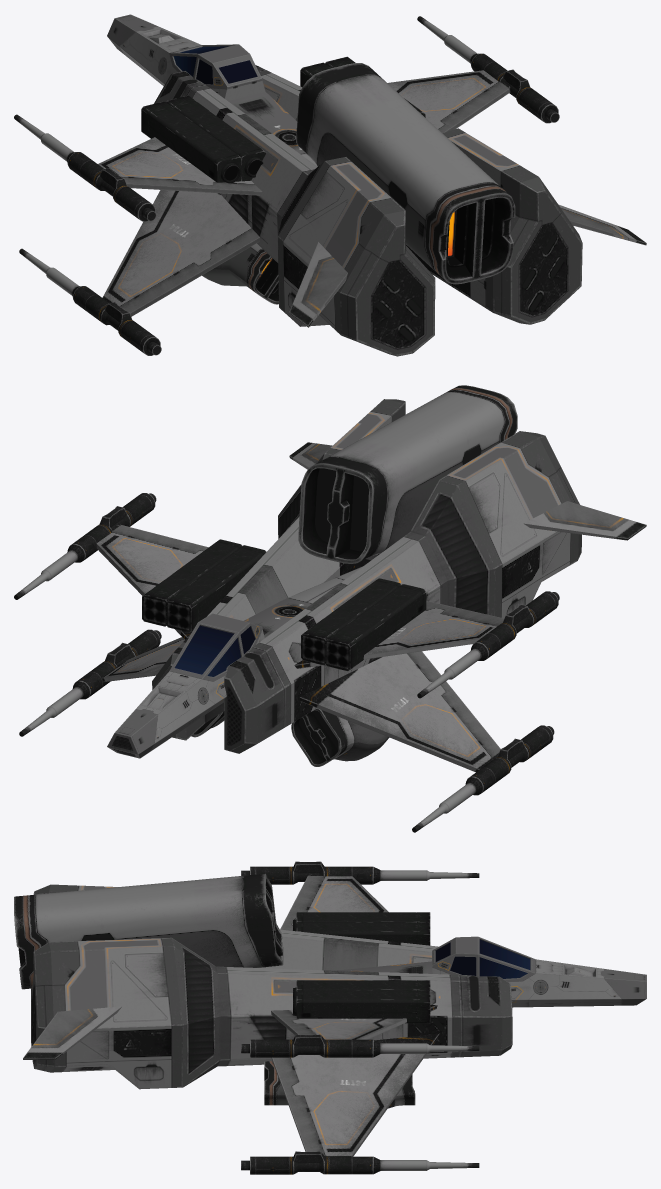
The model's file is battleship3.gltf.
The picture shows the model from 3 angles, top to bottom: view 1: azimuth 30°, elevation 25°; view 2: azimuth 150°, elevation 25°; view 3: azimuth 270°, elevation 25°; orthographic projection. The views are drawn at different scales.
Visible parts, largest first — view 1: MainBody13, Engine1, MainBody13_Mirrored, Wing6 (1), Cockpit3_WithoutInterior, Wing6_Mirrored, Wing6, Big_Launcher (3), Blaster (1), Blaster (4), Blaster, Wing2 (+4 smaller); view 2: MainBody13, Engine1, Wing6 (1), Cockpit3_WithoutInterior, MainBody13_Mirrored, Wing6_Mirrored, Wing6, Big_Launcher (3), Engine1 (2), Big_Launcher (1), Blaster (4), Blaster (1) (+8 smaller); view 3: MainBody13_Mirrored, Engine1, Wing6_Mirrored (1), Cockpit3_WithoutInterior, MainBody13, Big_Launcher, Blaster (3), Blaster, Wing6, Blaster (1), Wing2_Mirrored, Wing6_Mirrored (+5 smaller).
Part boxes in pixels (x1,y1,x2,y2): MainBody13: (154,71,435,356); Engine1: (296,63,515,284); MainBody13_Mirrored: (255,65,582,324); Wing6 (1): (102,190,259,316); Cockpit3_WithoutInterior: (107,14,265,100); Wing6_Mirrored: (388,70,510,132); Wing6: (98,137,262,195); Big_Launcher (3): (141,101,242,183); Blaster (1): (14,114,156,221); Blaster (4): (19,248,161,355); Blaster: (417,16,559,123); Wing2: (289,242,347,327); MainBody13: (224,431,581,753); Engine1: (298,385,517,563); Wing6 (1): (300,651,500,772); Cockpit3_WithoutInterior: (107,613,264,758); MainBody13_Mirrored: (152,399,405,740); Wing6_Mirrored: (96,524,208,639); Wing6: (294,601,504,668); Big_Launcher (3): (326,584,426,671); Engine1 (2): (291,708,389,766); Big_Launcher (1): (166,545,266,632); Blaster (4): (412,725,554,832); Blaster (1): (417,591,559,698); MainBody13_Mirrored: (31,937,512,1089); Engine1: (14,873,283,989); Wing6_Mirrored (1): (271,1033,439,1156); Cockpit3_WithoutInterior: (432,936,646,1007); MainBody13: (31,884,512,1009); Big_Launcher: (293,990,430,1023); Blaster (3): (241,1151,479,1174); Blaster: (241,1034,479,1057); Wing6: (280,874,388,930); Blaster (1): (241,861,479,884); Wing2_Mirrored: (23,1006,121,1059); Wing6_Mirrored: (271,1005,437,1039).
Bounding box in the file's own units: 11.46 × 6.12 × 16.98.
9 materials, 9 textured.
